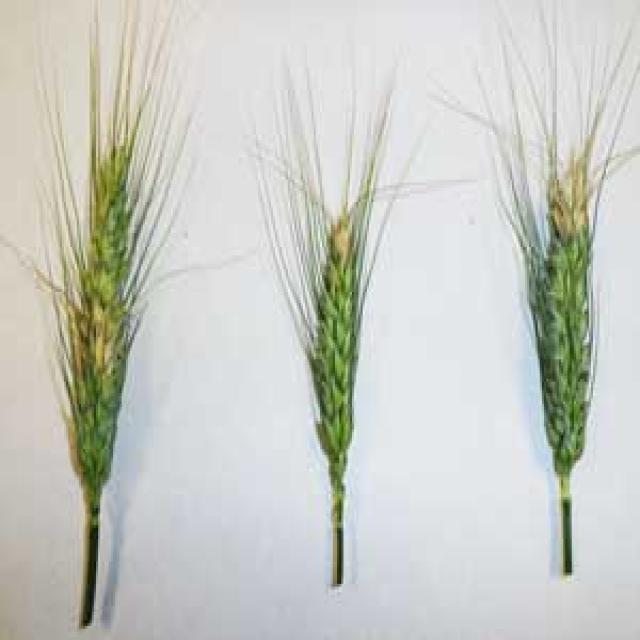Wheathead: (61, 135, 143, 512), (522, 174, 611, 473), (297, 212, 379, 455)
